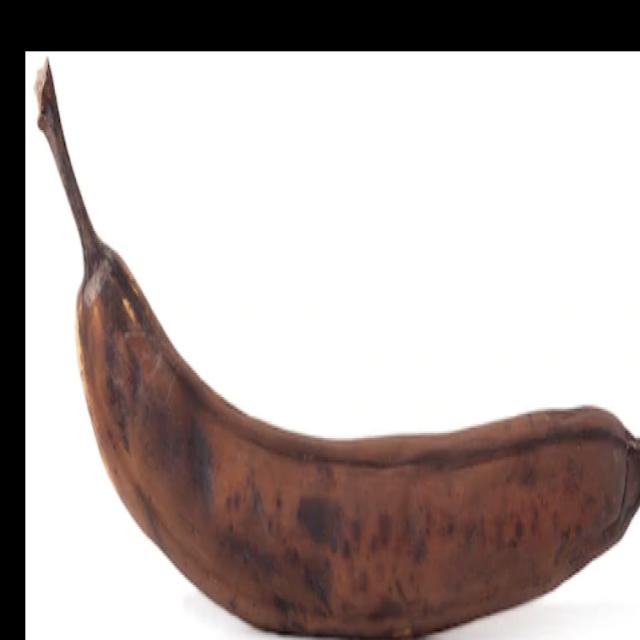banana: (99, 83, 635, 640)
